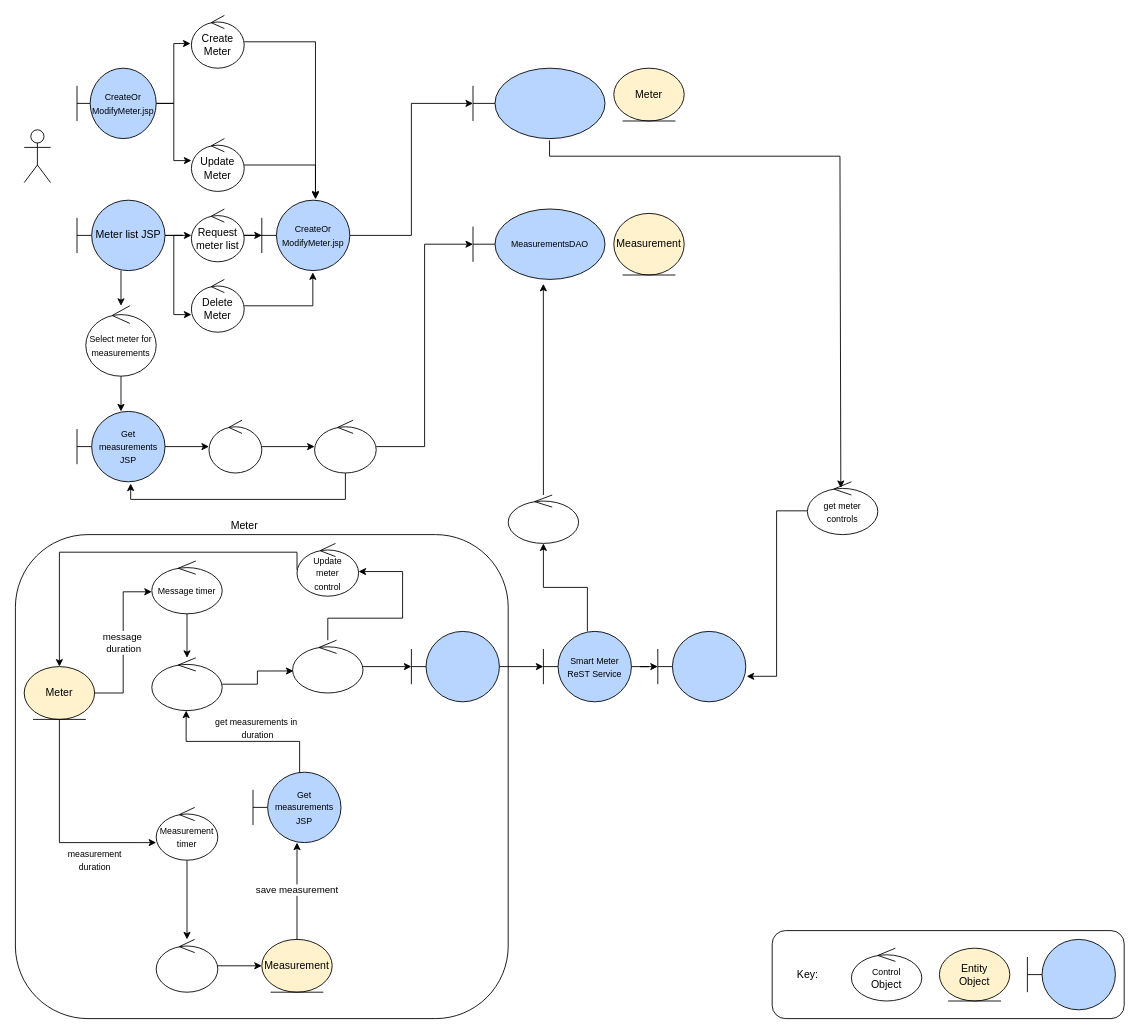
Image size: 1140x1034. Some labels were removed from this diagram. The box of each missing label's shape, as (x1, y1, x2, y2) in pixels:
Boundary Object: (1027, 939, 1115, 1010)
Get measurement: (155, 939, 218, 992)
Get measurements for meter: (314, 419, 376, 473)
Get new measurements: (151, 657, 222, 711)
Meter DAO: (472, 67, 605, 139)
Operator: (23, 129, 51, 183)
Select duration: (208, 419, 262, 473)
Send/Receive Message: (292, 639, 363, 693)
Smart Meter ReST Client: (411, 631, 499, 702)
Smart Meter Service: (657, 631, 746, 702)
update measurements: (507, 494, 579, 543)
